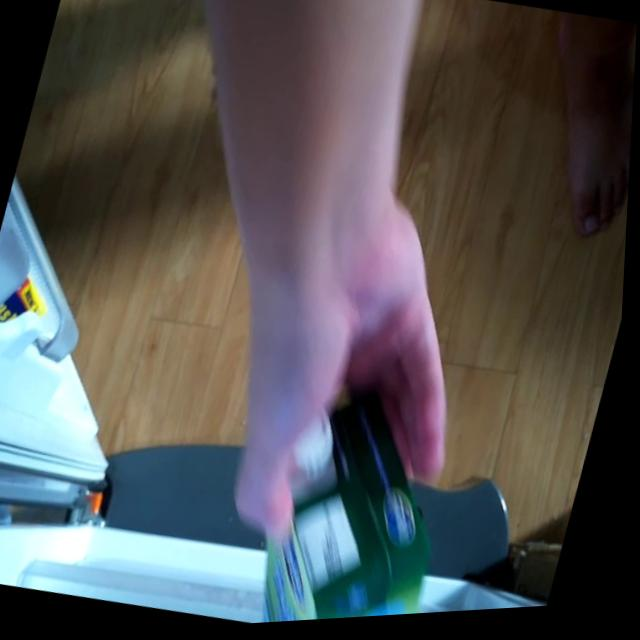milk: (253, 397, 469, 627)
